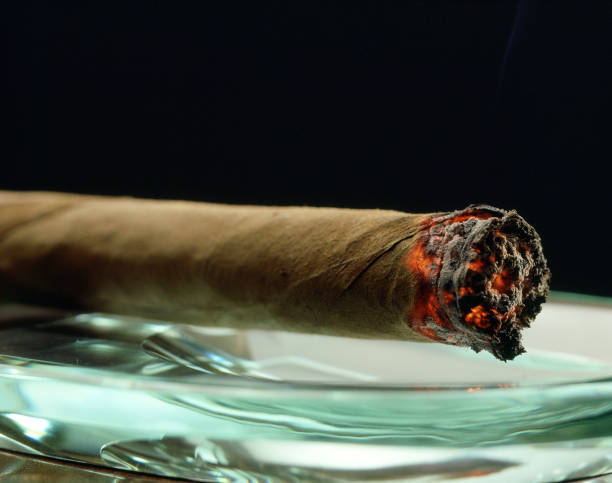cigarette: (0, 186, 551, 364)
